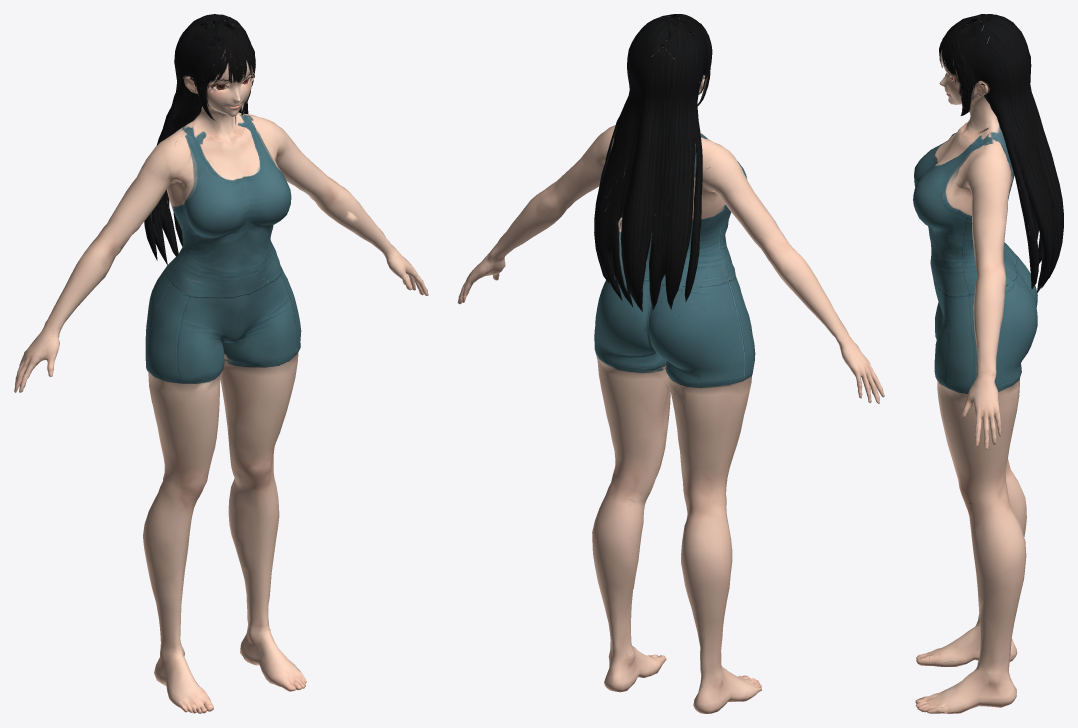
The model's file is generated.glb.
3 views of the same model, side by side, from view 1: azimuth 30°, elevation 25°; view 2: azimuth 150°, elevation 25°; view 3: azimuth 270°, elevation 25° (orthographic). The views are drawn at different scales.
Size of the model in its own units: 0.6523 by 1 by 0.2057.
1 material, 1 textured.
